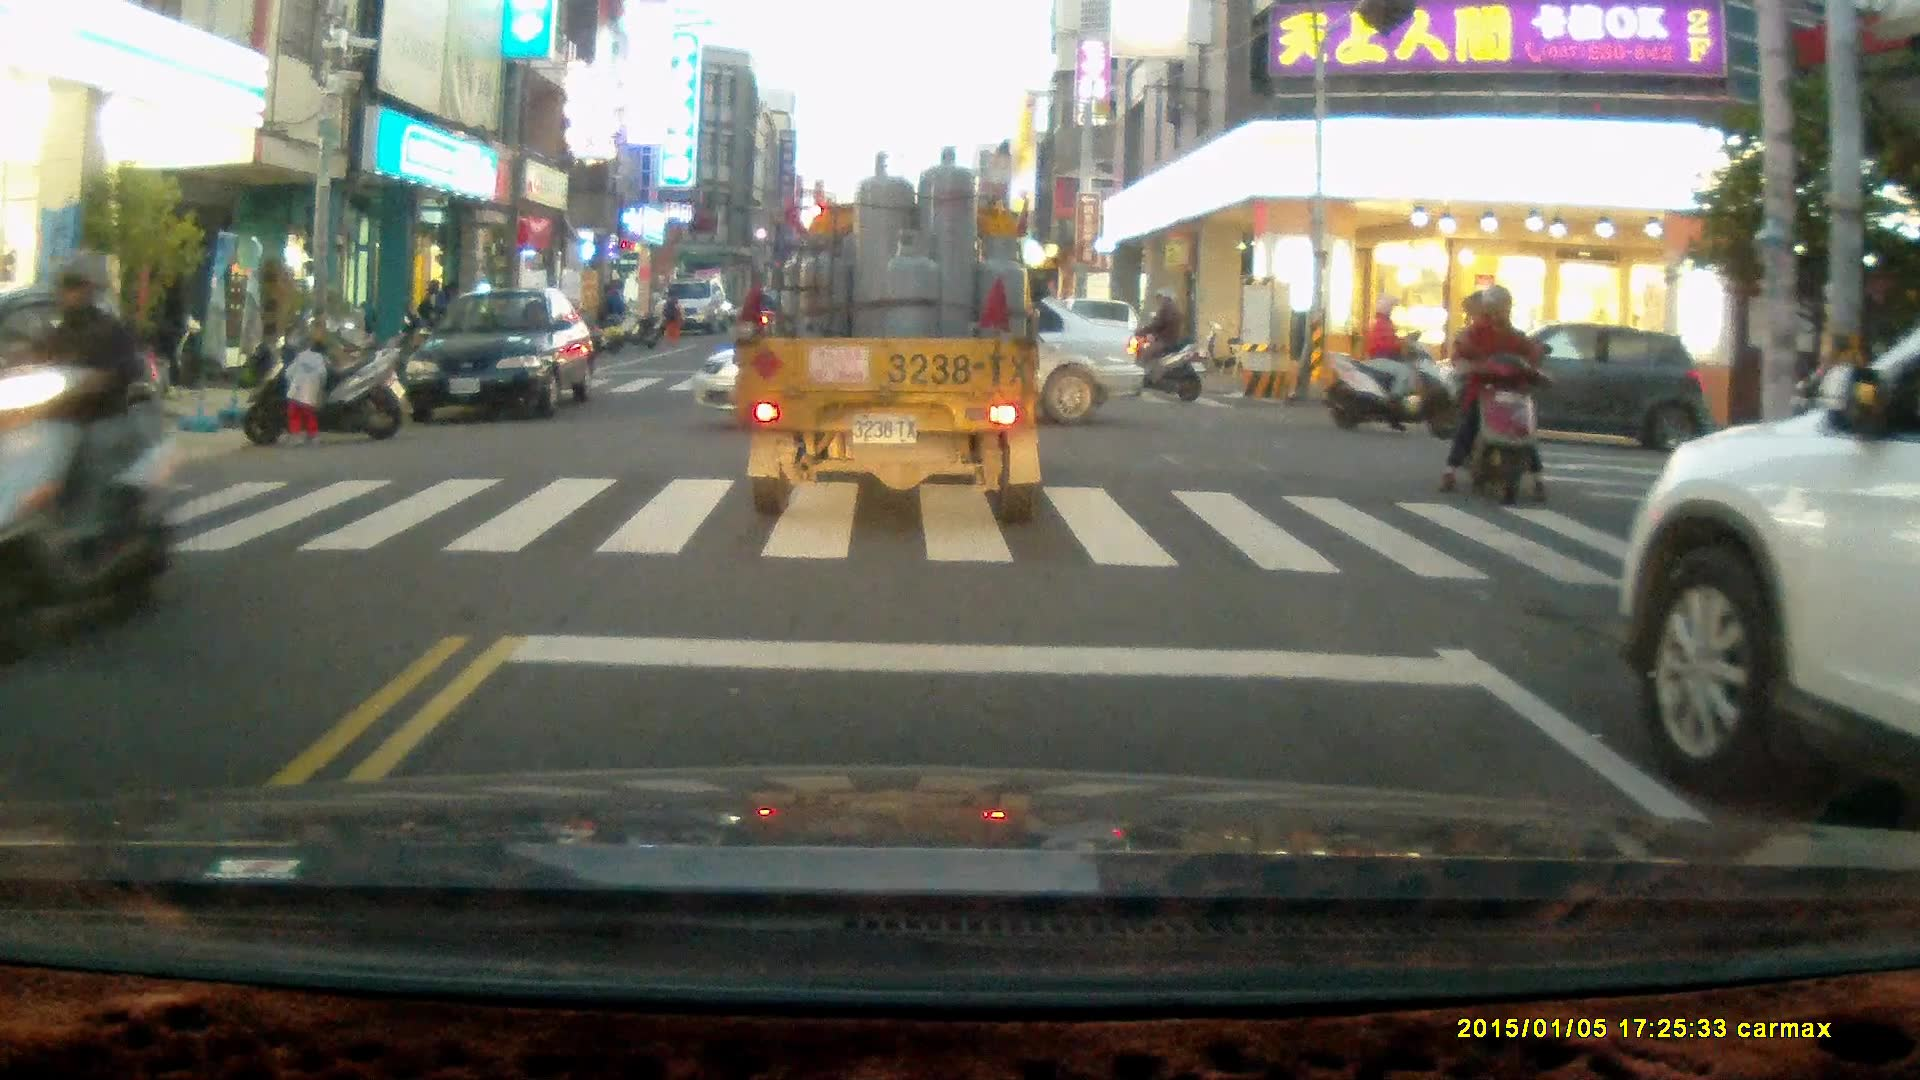pedestrian: (281, 340, 329, 450), (602, 278, 629, 341), (661, 287, 684, 345)
rider: (0, 249, 170, 662), (1438, 285, 1554, 509), (1321, 295, 1460, 436), (1108, 284, 1203, 404)
vehicle: (1610, 324, 1920, 811), (733, 142, 1045, 527), (1426, 324, 1711, 446), (402, 291, 598, 422), (656, 280, 730, 335)
